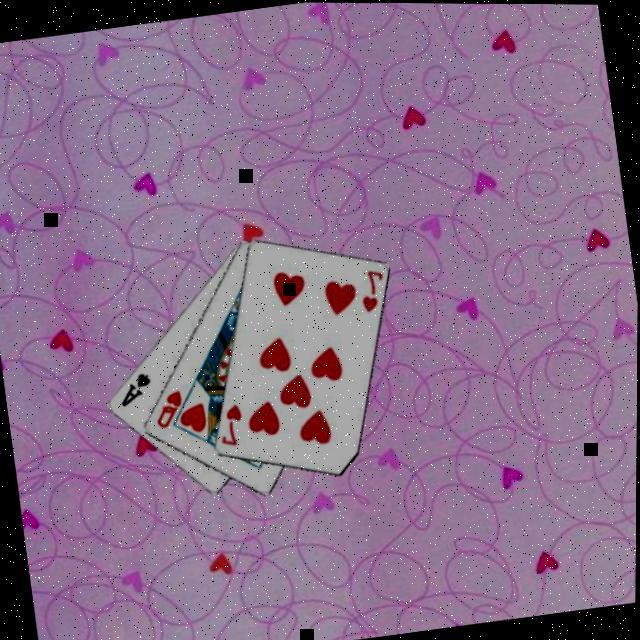7H: (352, 266, 388, 316), (212, 402, 247, 452)
AS: (112, 370, 155, 411)
QH: (148, 387, 188, 433)
